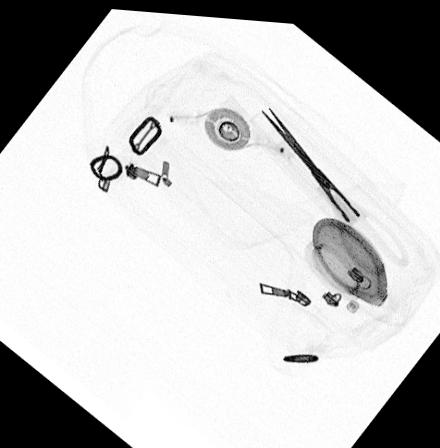Scissors: (258, 99, 411, 274)
